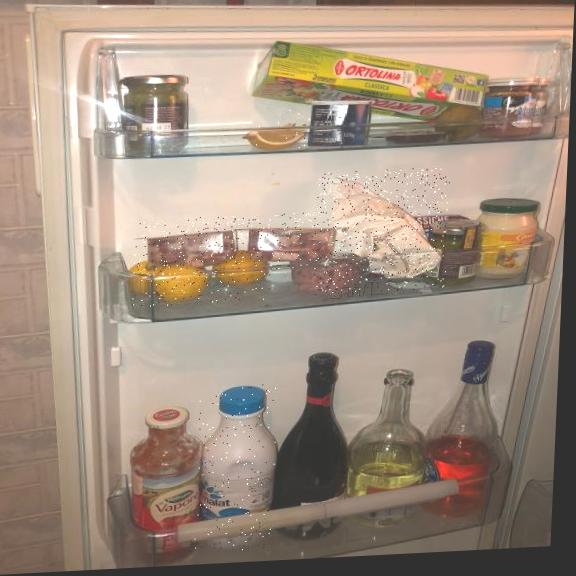bacon: (133, 210, 334, 276)
butter: (313, 167, 451, 296)
lemon: (132, 247, 273, 308), (251, 109, 308, 156)
milk: (193, 384, 278, 553)
